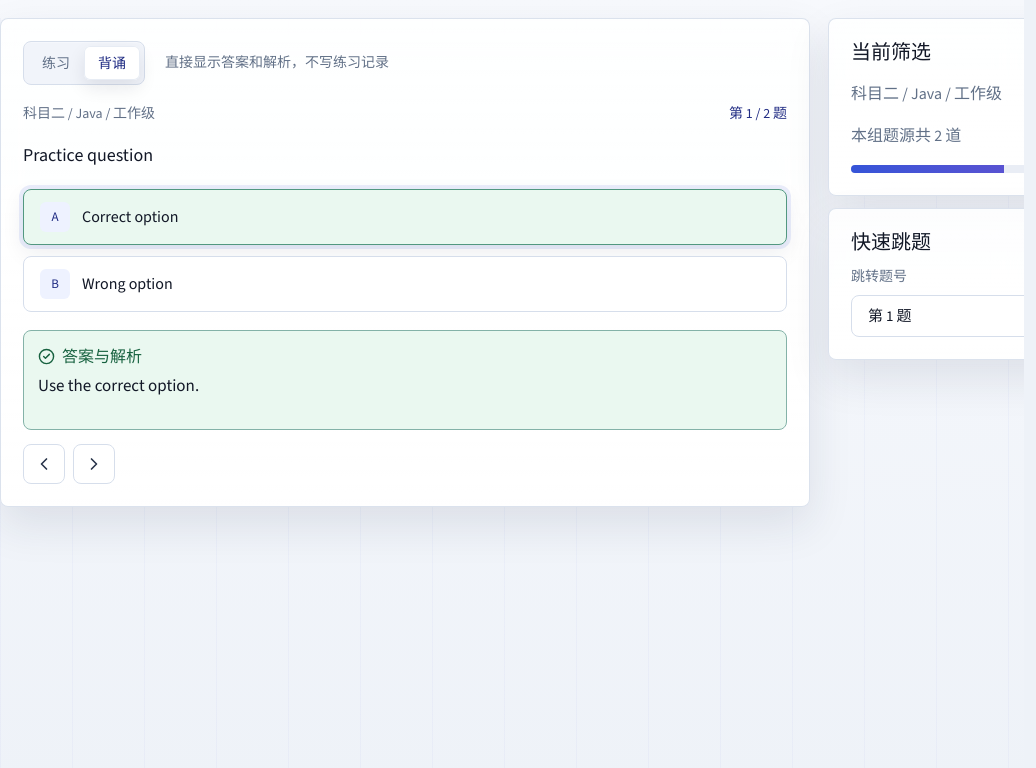
Test: PracticePage › describes the two modes beside the mode switch and removes the side explanation card
This screenshot has width=1036, height=768.
Expected: the text "直接显示答案和解析，不写练习记录" is shown, [165,53,389,73]
Click the button "练习" at (56, 63), box [28,46,84,80]
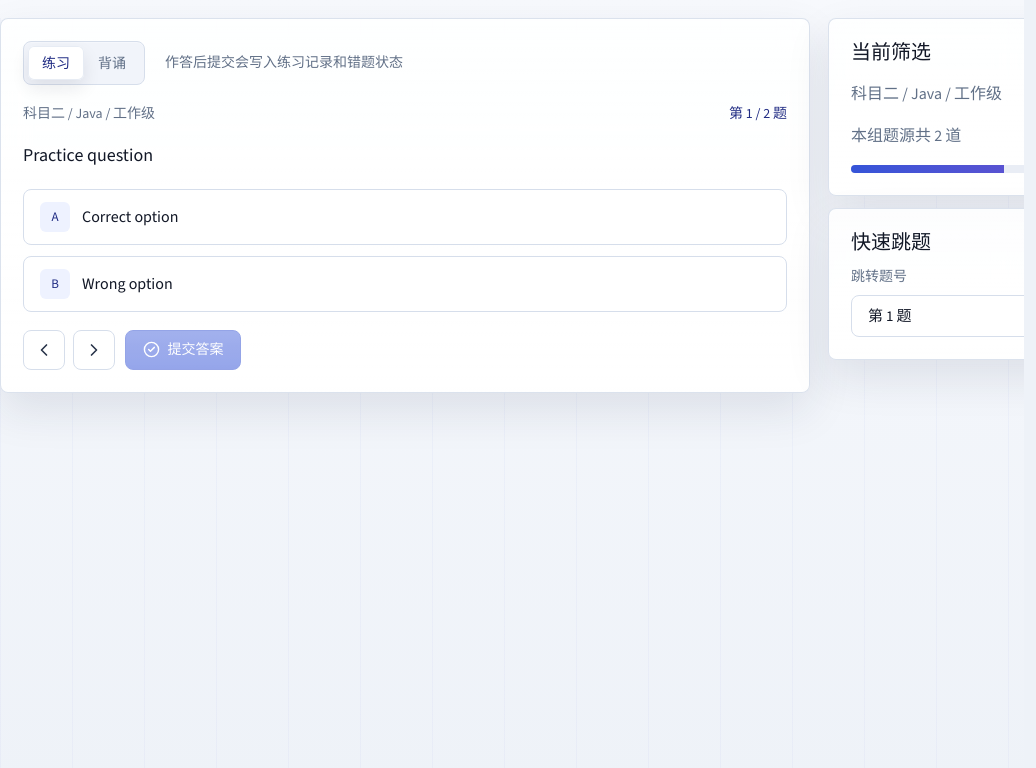
Expected: the text "作答后提交会写入练习记录和错题状态" is shown, [165,53,403,73]
